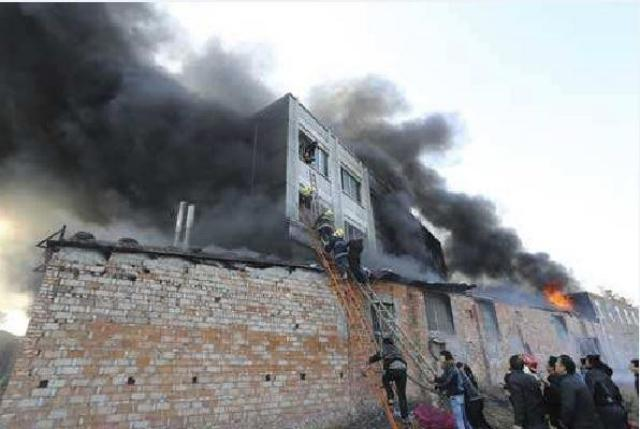fire: (542, 284, 570, 304)
